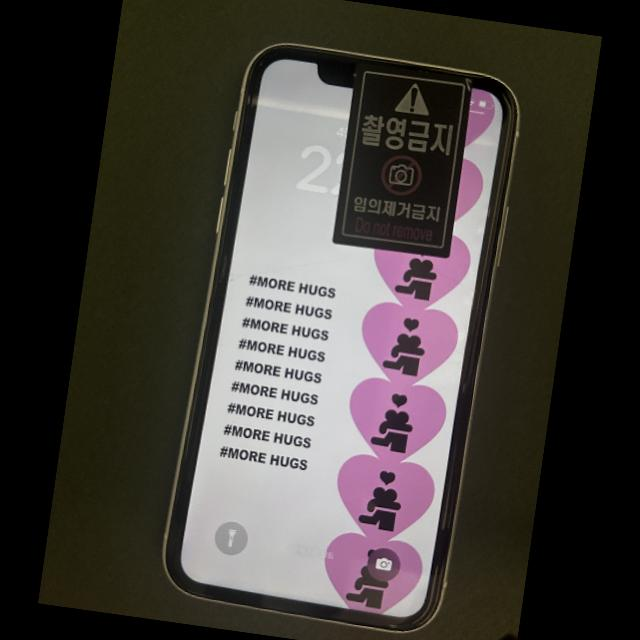phone: (161, 43, 521, 635)
sticker: (332, 62, 473, 258)
